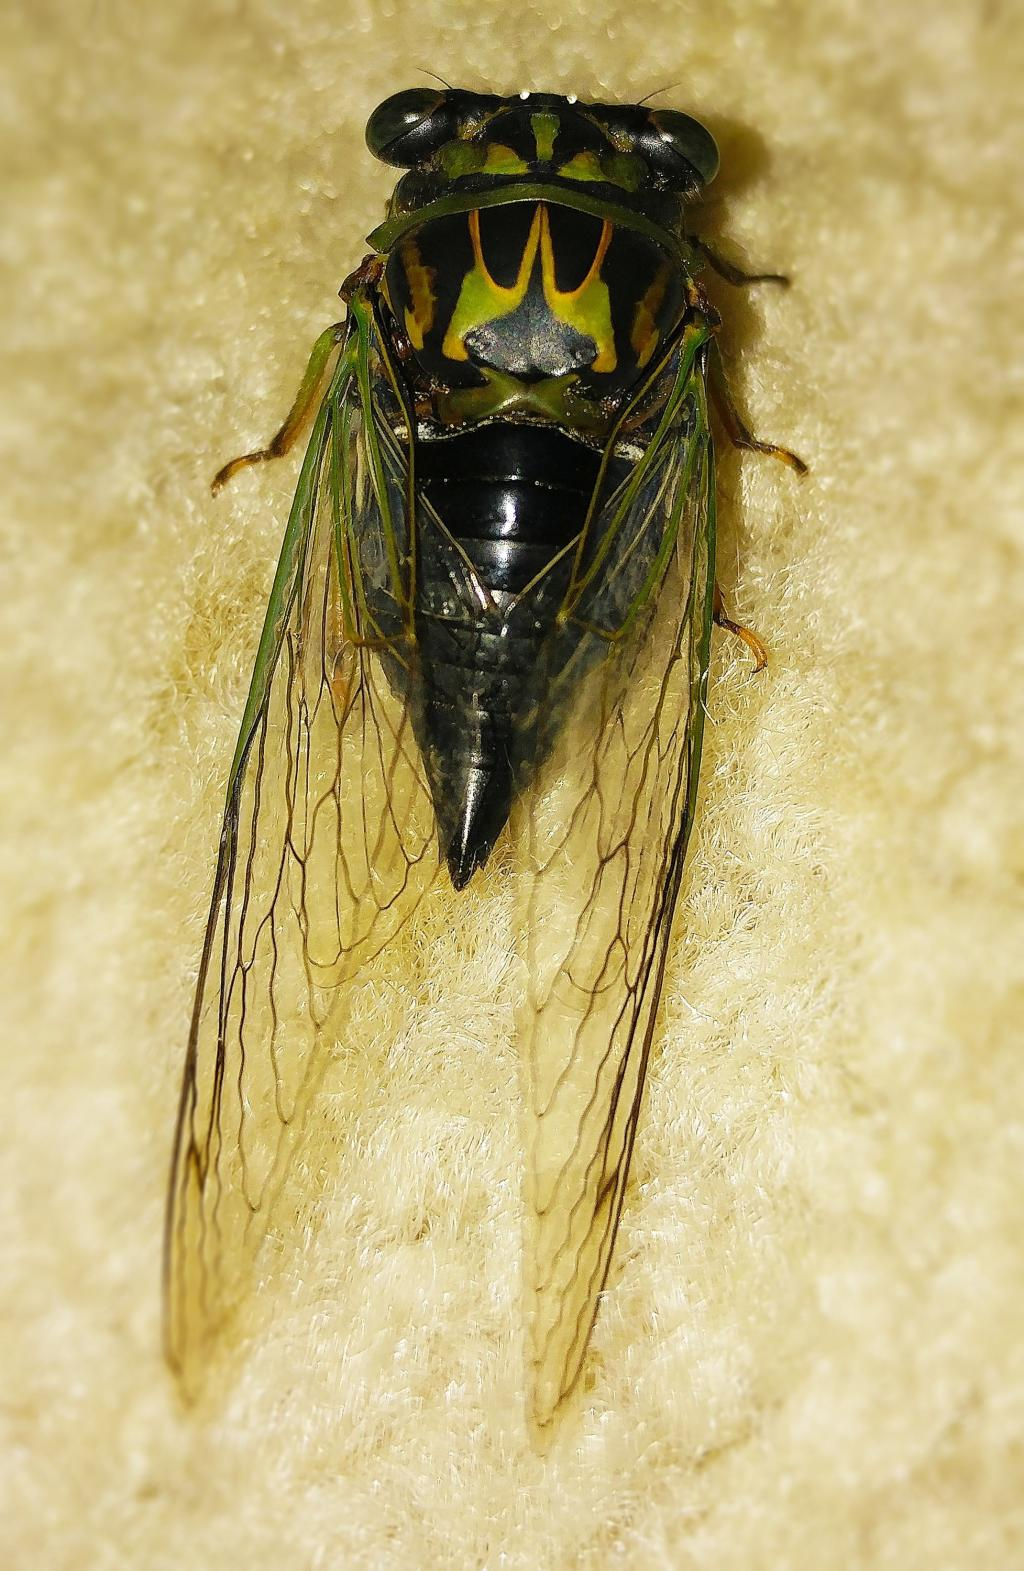chan: (134, 68, 764, 1285)
